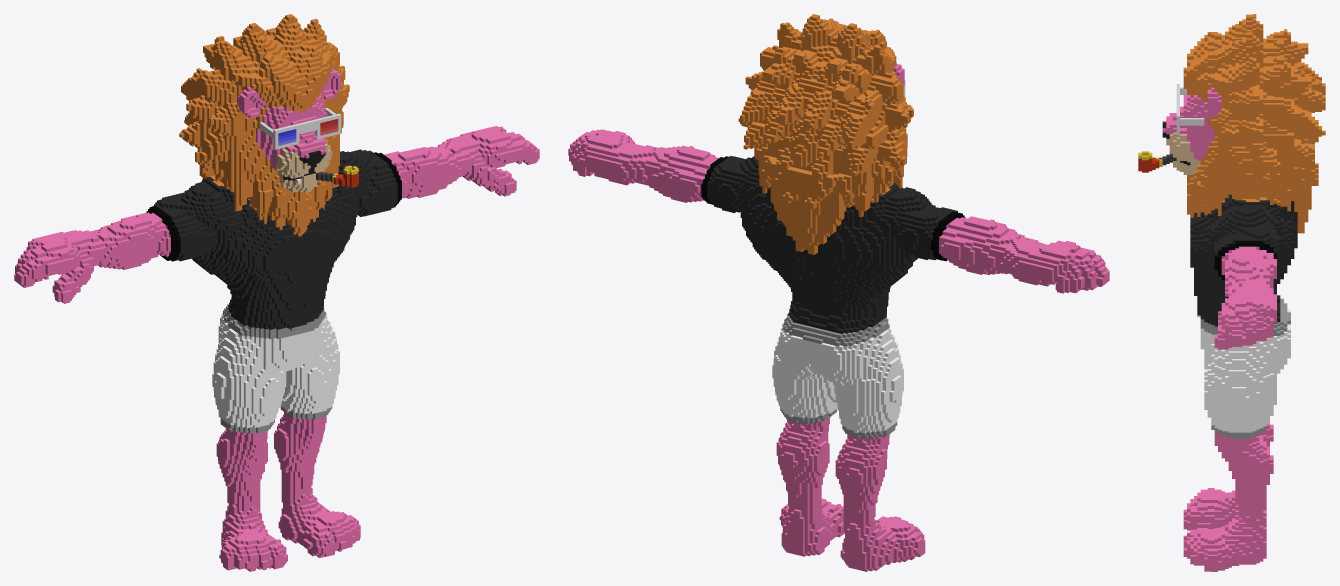
File: 248-CxnodHgh.glb
The picture shows the model from 3 angles, left to right: view 1: azimuth 30°, elevation 25°; view 2: azimuth 150°, elevation 25°; view 3: azimuth 270°, elevation 25°; orthographic projection. The views are drawn at different scales.
Visible parts, largest first — view 1: pipe; view 2: pipe; view 3: pipe.
Boxes of the visible parts, bbox=[...] form: pipe: bbox=[14, 14, 539, 571]; pipe: bbox=[568, 14, 1109, 571]; pipe: bbox=[1138, 14, 1325, 571].
Size of the model in its own units: 17.2 by 16.5 by 5.4.
5 materials, 5 textured.
